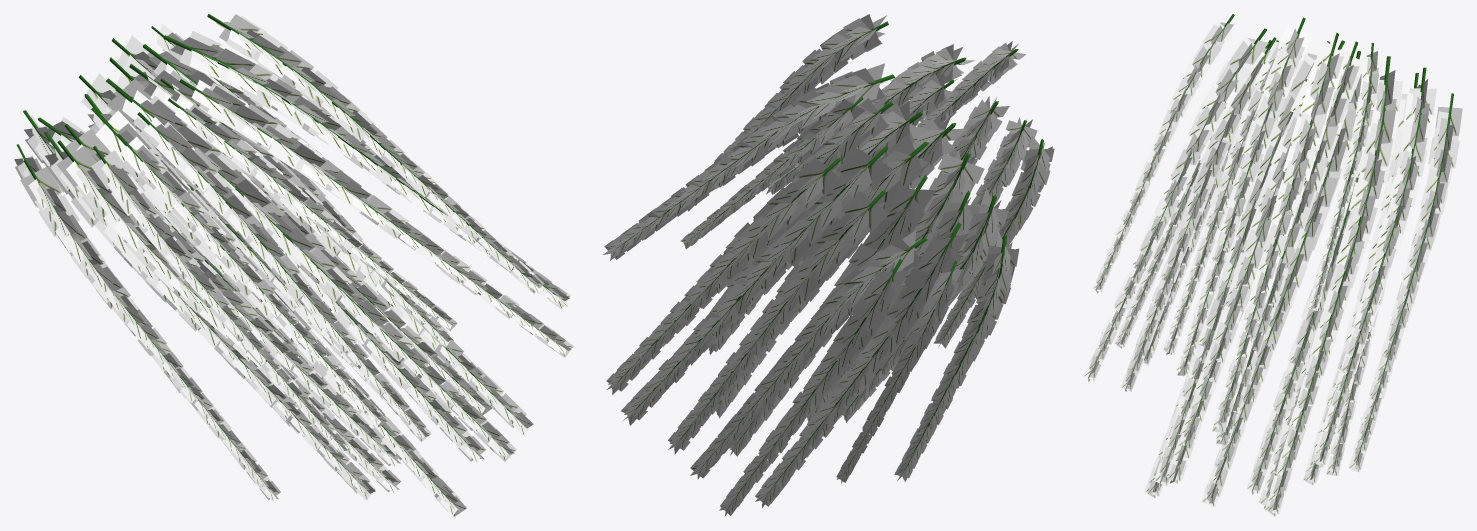
The model's file is rosemary.glb.
3 views of the same model, side by side, from view 1: azimuth 30°, elevation 25°; view 2: azimuth 150°, elevation 25°; view 3: azimuth 270°, elevation 25° (orthographic). The views are drawn at different scales.
Parts seen in each view (by area): view 1: Object_12, Object_13, Object_14, Object_11, Object_10; view 2: Object_13, Object_12, Object_11, Object_14, Object_10; view 3: Object_13, Object_12, Object_11, Object_14, Object_10.
Boxes of the visible parts, x1=… form: Object_12: x1=20, y1=31, x2=573, y2=501; Object_13: x1=24, y1=14, x2=544, y2=500; Object_14: x1=95, y1=46, x2=533, y2=516; Object_11: x1=14, y1=24, x2=452, y2=442; Object_10: x1=17, y1=14, x2=558, y2=502; Object_13: x1=621, y1=14, x2=1008, y2=516; Object_12: x1=603, y1=41, x2=1054, y2=481; Object_11: x1=668, y1=72, x2=1037, y2=483; Object_14: x1=708, y1=94, x2=984, y2=421; Object_10: x1=616, y1=21, x2=1043, y2=502; Object_13: x1=1175, y1=24, x2=1462, y2=516; Object_12: x1=1083, y1=21, x2=1437, y2=467; Object_11: x1=1114, y1=41, x2=1420, y2=485; Object_14: x1=1144, y1=49, x2=1362, y2=497; Object_10: x1=1093, y1=14, x2=1453, y2=500.
Size of the model in its own units: 0.3684 by 0.3807 by 0.301.
2 materials, 1 textured.
